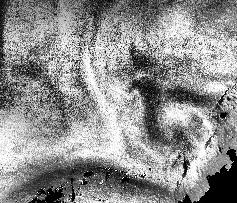CE: (116, 77, 231, 192)
